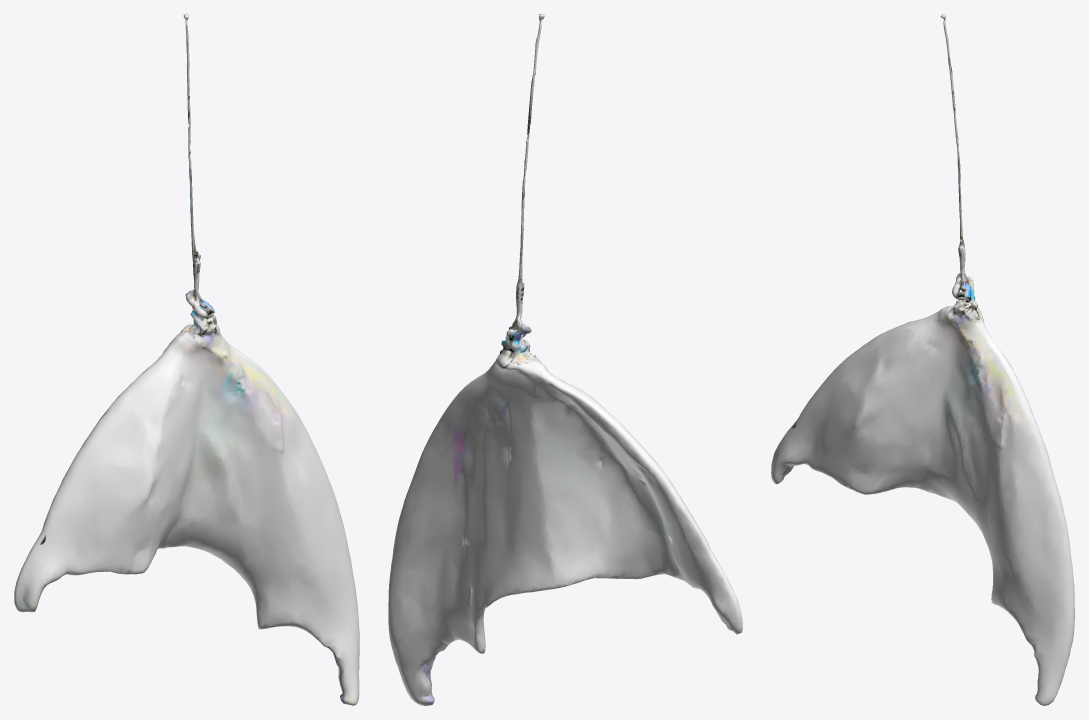
Rendered from Bat_Wing_Charm_0704171116_texture.glb.
3 views of the same model, side by side, from view 1: azimuth 30°, elevation 25°; view 2: azimuth 150°, elevation 25°; view 3: azimuth 330°, elevation 25° (orthographic). The views are drawn at different scales.
Size of the model in its own units: 0.9865 by 1.97 by 0.2298.
1 material, 1 textured.
